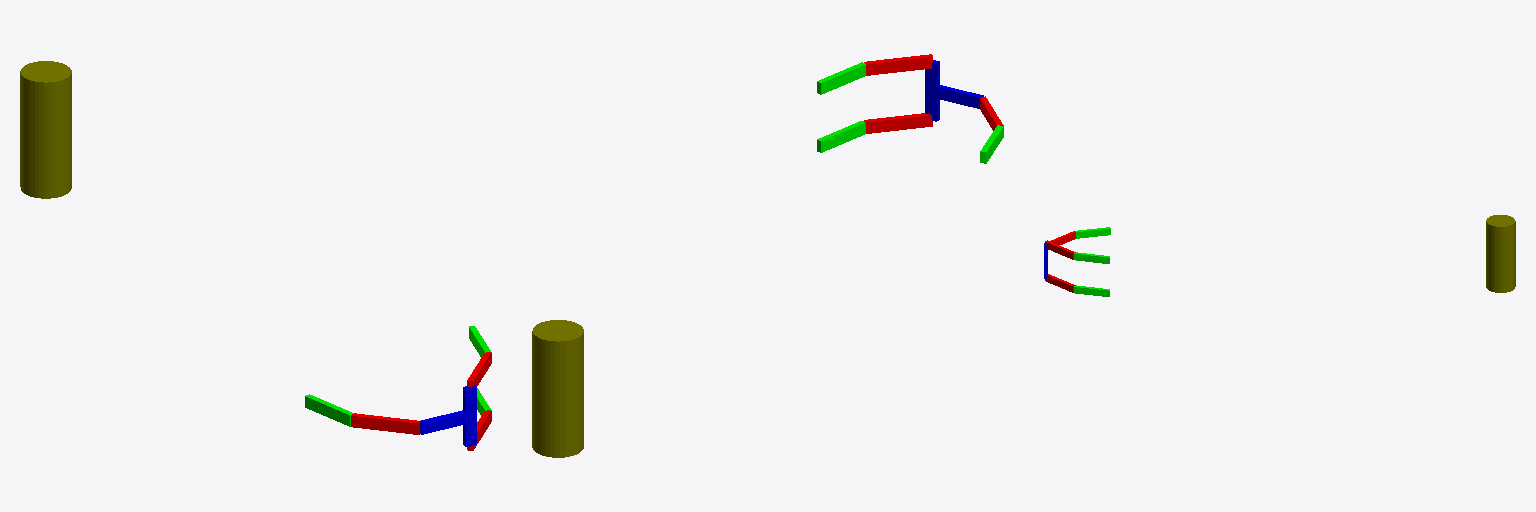
robot.urdf — gripper:
<?xml version="1.0"?>
<robot name="gripper">
  <link name="base_link">
    <visual>
      <geometry>
        <box size="0.045 0.005 0.01"/>
      </geometry>
      <material name="blue">
        <color rgba="0 0 1 1"/>
      </material>
      <origin xyz="0 0 0" rpy="0 0 0"/>
    </visual>
  </link>

  <link name="left_finger">
    <visual>
      <geometry>
        <box size="0.055 0.005 0.01"/>
      </geometry>
      <material name="red">
        <color rgba="1 0 0 1"/>
      </material>
    <origin rpy="0 0 0" xyz="0.0275 0 0"/>
    </visual>
  </link>

  <link name="right_upper_finger">
    <visual>
      <geometry>
        <box size="0.055 0.005 0.01"/>
      </geometry>
      <material name="red">
        <color rgba="1 0 0 1"/>
      </material>
    <origin rpy="0 0 0" xyz="0.0275 0 0"/>
    </visual>
  </link>

  <link name="right_lower_finger">
    <visual>
      <geometry>
        <box size="0.055 0.005 0.01"/>
      </geometry>
      <material name="red">
        <color rgba="1 0 0 1"/>
      </material>
    <origin rpy="0 0 0" xyz="0.0275 0 0"/>
    </visual>
  </link>

  <link name="right_palm">
    <visual>
      <geometry>
        <box size="0.01 0.005 0.05"/>
      </geometry>
      <material name="blue">
        <color rgba="0 0 1 1"/>
      </material>
    <origin rpy="0 0 0" xyz="0 0 0"/>
    </visual>
  </link>

  <link name="right_upper_finger_top">
    <visual>
      <geometry>
        <box size="0.05 0.005 0.01"/>
      </geometry>
      <material name="green">
        <color rgba="0 1 0 1"/>
      </material>
    <origin rpy="0 0 0" xyz="-0.025 0 0"/>
    </visual>
  </link>

  <link name="right_lower_finger_top">
    <visual>
      <geometry>
        <box size="0.05 0.005 0.01"/>
      </geometry>
      <material name="green">
        <color rgba="0 1 0 1"/>
      </material>
    <origin rpy="0 0 0" xyz="-0.025 0 0"/>
    </visual>
  </link>

  <link name="left_finger_top">
    <visual>
      <geometry>
        <box size="0.05 0.005 0.01"/>
      </geometry>
      <material name="green">
        <color rgba="0 1 0 1"/>
      </material>
    <origin rpy="0 0 0" xyz="0.025 0 0"/>
    </visual>
  </link>

  <link name="grab_object">
    <visual>
      <geometry>
        <cylinder length="0.1" radius="0.02"/>
      </geometry>
      <material name="green">
        <color rgba="0.5 0.5 0 1"/>
      </material>
    <origin rpy="0 0 0" xyz="0 0 0"/>
    </visual>
  </link>

  <joint name="base_to_grab_object" type="prismatic">
    <axis xyz="0 1 0"/>
    <limit effort="1000.0" lower="0.045" upper="0.4" velocity="0.5"/>
    <parent link="base_link"/>
    <child link="grab_object"/>
    <origin rpy="0 0 0" xyz="0 0.4 0"/>
  </joint>

  <joint name="base_to_left_finger" type="revolute">
    <axis xyz="0 0 1"/>
    <limit effort="1000.0" lower="-0.785" upper="0.0" velocity="0.5"/>
    <parent link="base_link"/>
    <child link="left_finger"/>
    <origin rpy="0 0 2.35" xyz="-0.0225 0 0"/>
  </joint>

  <joint name="base_to_right_palm" type="fixed">
    <parent link="base_link"/>
    <child link="right_palm"/>
    <origin rpy="0 0 0" xyz="0.0225 0 0"/>
  </joint>

  <joint name="right_palm_to_right_upper_finger" type="revolute">
    <axis xyz="0 0 1"/>
    <limit effort="1000.0" lower="0.0" upper="0.785" velocity="0.5"/>
    <parent link="right_palm"/>
    <child link="right_upper_finger"/>
    <origin rpy="0 0 0.785" xyz="0 0 0.025"/>
  </joint>

  <joint name="right_palm_to_right_lower_finger" type="revolute">
    <axis xyz="0 0 1"/>
    <limit effort="1000.0" lower="0.0" upper="0.785" velocity="0.5"/>
    <parent link="right_palm"/>
    <child link="right_lower_finger"/>
    <origin rpy="0 0 0.785" xyz="0 0 -0.025"/>
  </joint>

  <joint name="right_lower_finger_to_right_lower_finger_top" type="revolute">
    <axis xyz="0 0 1"/>
    <limit effort="1000.0" lower="0.0" upper="1.04" velocity="0.5"/>
    <parent link="right_lower_finger"/>
    <child link="right_lower_finger_top"/>
    <origin rpy="0 0 -2.617" xyz="0.055 0 0"/>
  </joint>

  <joint name="right_upper_finger_to_right_upper_finger_top" type="revolute">
    <axis xyz="0 0 1"/>
    <limit effort="1000.0" lower="0.0" upper="1.04" velocity="0.5"/>
    <parent link="right_upper_finger"/>
    <child link="right_upper_finger_top"/>
    <origin rpy="0 0 -2.617" xyz="0.055 0 0"/>
  </joint>

  <joint name="left_finger_to_left_finger_top" type="revolute">
    <axis xyz="0 0 1"/>
    <limit effort="1000.0" lower="-1.04" upper="0" velocity="0.5"/>
    <parent link="left_finger"/>
    <child link="left_finger_top"/>
    <origin rpy="0 0 5.759" xyz="0.055 0 0"/>
  </joint>
</robot>

--- What the picture shows (computed from the rendered views, not written in the file) ---
3 views of the same robot in one strip: view 1: azimuth 30°, elevation 25°; view 2: azimuth 150°, elevation 25°; view 3: azimuth 270°, elevation 25° (orthographic).
Robot: gripper — 9 links, 8 joints (6 revolute, 1 prismatic, 1 fixed); root link base_link; default pose: joints at zero except 1 at the middle of their limits (base_to_grab_object = 0.2225).
Links seen in each view (by area): view 1: grab_object, left_finger, right_palm, left_finger_top, base_link; view 2: grab_object, right_upper_finger, right_lower_finger, right_upper_finger_top, right_lower_finger_top, right_palm, base_link; view 3: grab_object.
Link boxes in pixels (<box>): grab_object: <box>20,61,71,198</box>; left_finger: <box>351,413,419,434</box>; right_palm: <box>463,385,476,446</box>; left_finger_top: <box>305,394,353,426</box>; base_link: <box>419,410,471,434</box>; grab_object: <box>532,320,583,457</box>; right_upper_finger: <box>864,54,932,75</box>; right_lower_finger: <box>864,113,932,133</box>; right_upper_finger_top: <box>817,62,865,94</box>; right_lower_finger_top: <box>817,121,865,152</box>; right_palm: <box>925,60,939,121</box>; base_link: <box>931,85,983,108</box>; grab_object: <box>1486,215,1515,292</box>.
Bounding box of the posed robot: 0.1529 × 0.645 × 0.1 m (x, y, z).
Geometry: primitives only (box / cylinder / sphere), no mesh files.